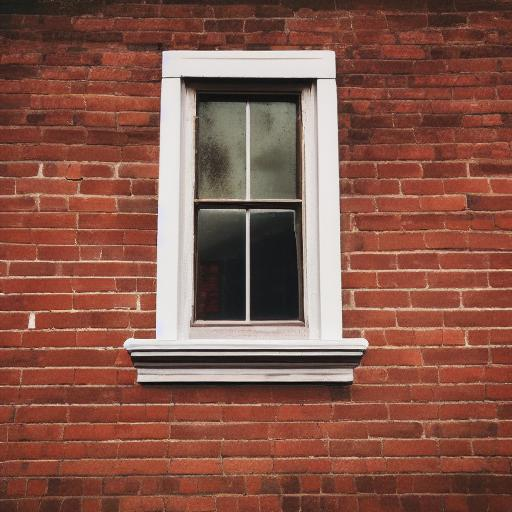Window: (120, 49, 373, 389)
